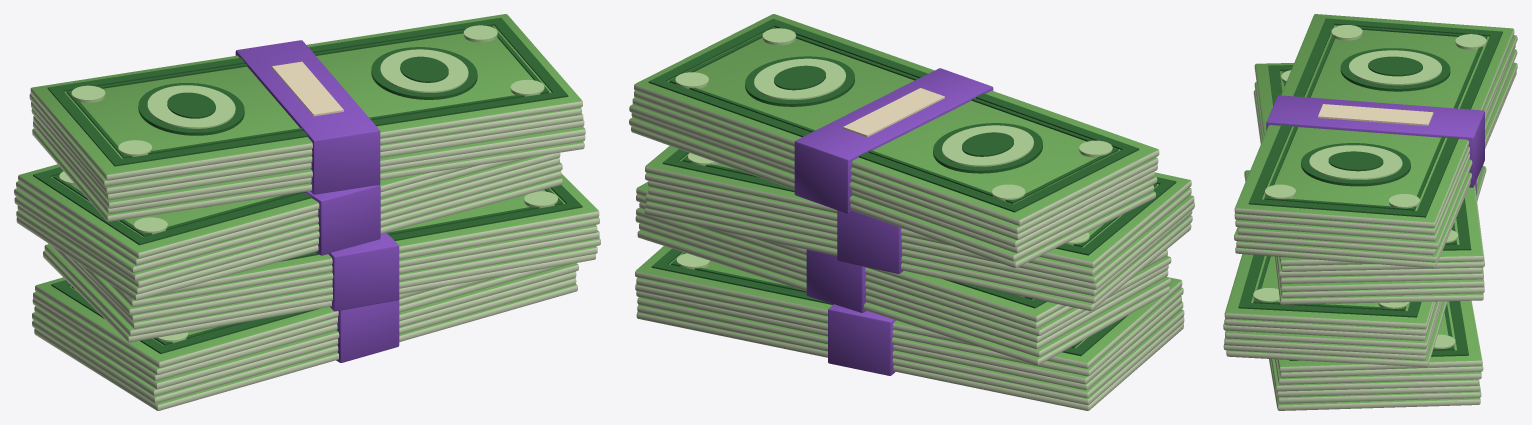
The model's file is cash-stack.glb.
3 renders of one model, left to right at view 1: azimuth 30°, elevation 25°; view 2: azimuth 150°, elevation 25°; view 3: azimuth 270°, elevation 25°, orthographic. The views are drawn at different scales.
Visible parts, largest first — view 1: CashStack; view 2: CashStack; view 3: CashStack.
Part boxes in pixels (x1,y1,x2,y2): CashStack: (14, 14, 600, 410); CashStack: (629, 14, 1194, 410); CashStack: (1223, 14, 1517, 410).
Bounding box in the file's own units: 0.8578 × 0.375 × 0.4911.
